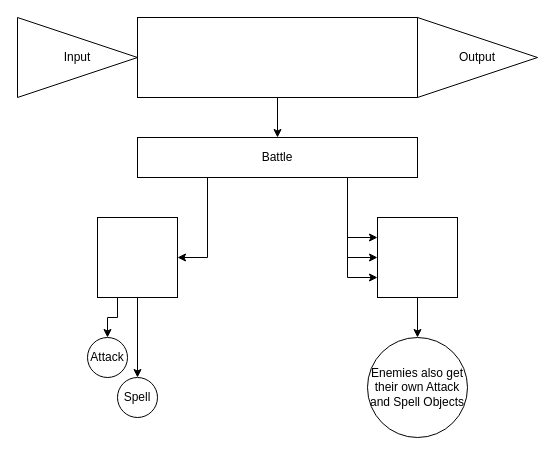
This 555x455 diagram has some shape labels left out. Each missing label, with the centre of its shape:
Game Engine: point 277,57
Monsters: point 417,257
Player: point 137,257
